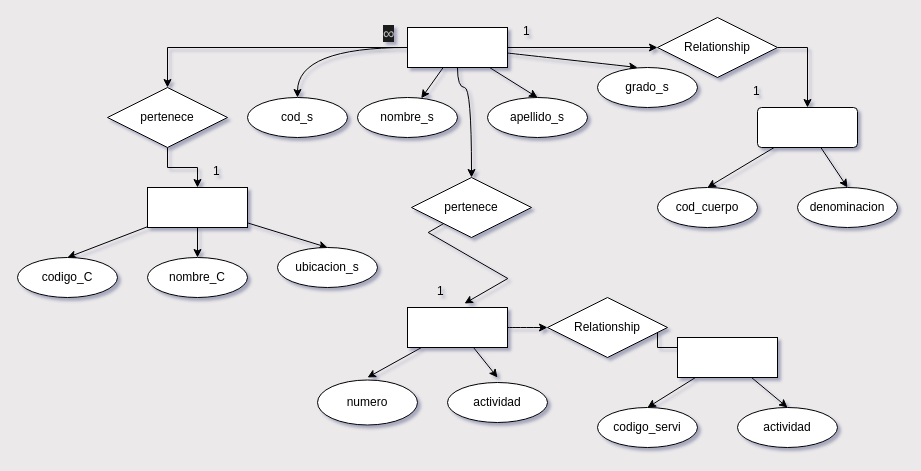
The diagram is 921 pixels wide and 471 high, and some of its shapes have lost their labels. The centre of each missing label's shape, as x and y in pixels:
compania: the point at 457,327
cuarteles: the point at 197,207
cuerpo_E: the point at 807,127
servicio: the point at 727,357
soldado: the point at 457,47
